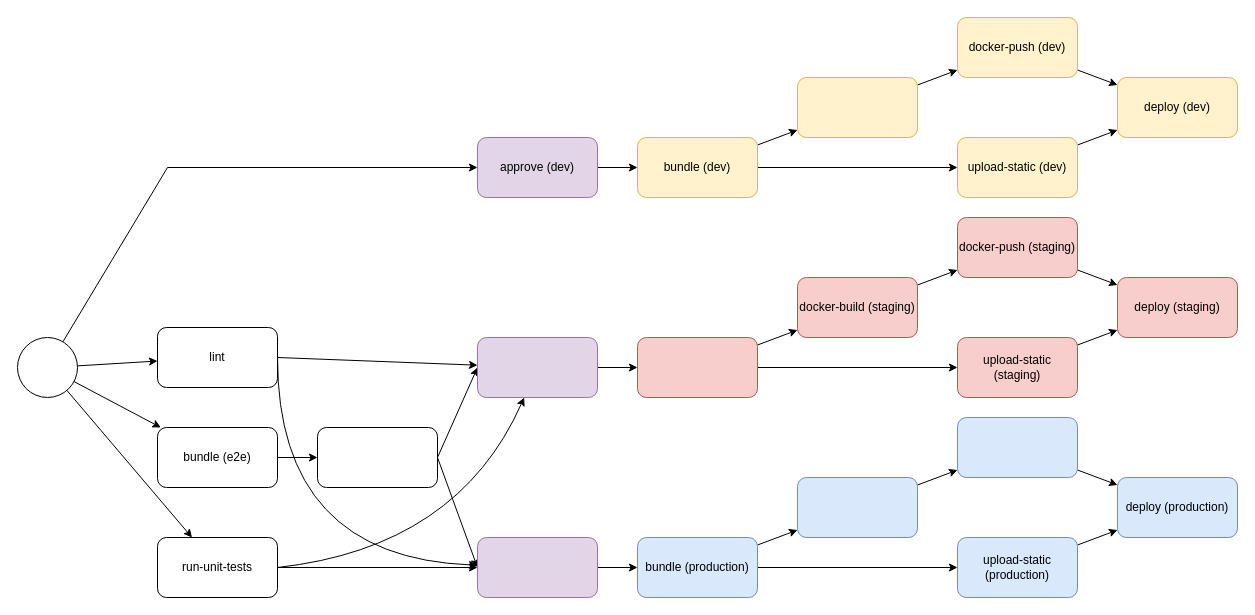
Image size: 1255x615. Some labels were removed from this diagram. The box of each missing label's shape, as (x1, y1, x2, y2) in pixels:
approve (production): (476, 536, 598, 598)
approve (staging): (476, 336, 598, 398)
bundle (staging): (636, 336, 758, 398)
docker-build (dev): (796, 76, 918, 138)
docker-build (production): (796, 476, 918, 538)
docker-push (production): (956, 416, 1078, 478)
run-cypress-tests: (316, 426, 438, 488)
Start: (16, 336, 78, 398)
